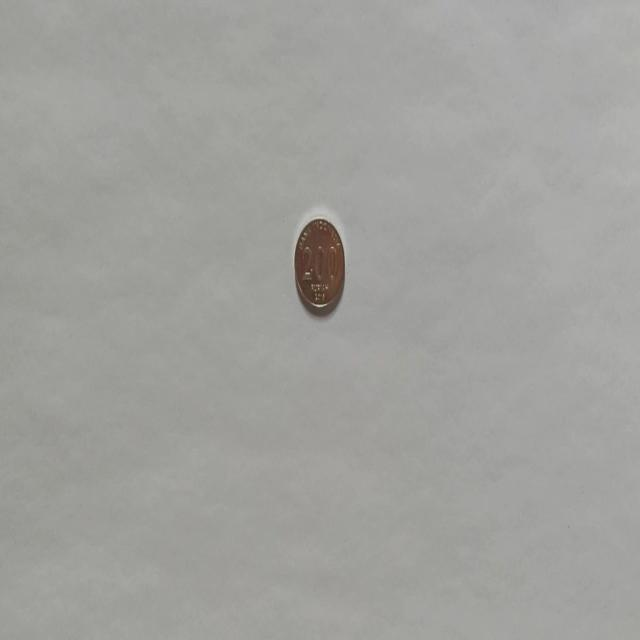dua ratus rupiah: (292, 214, 346, 316)
